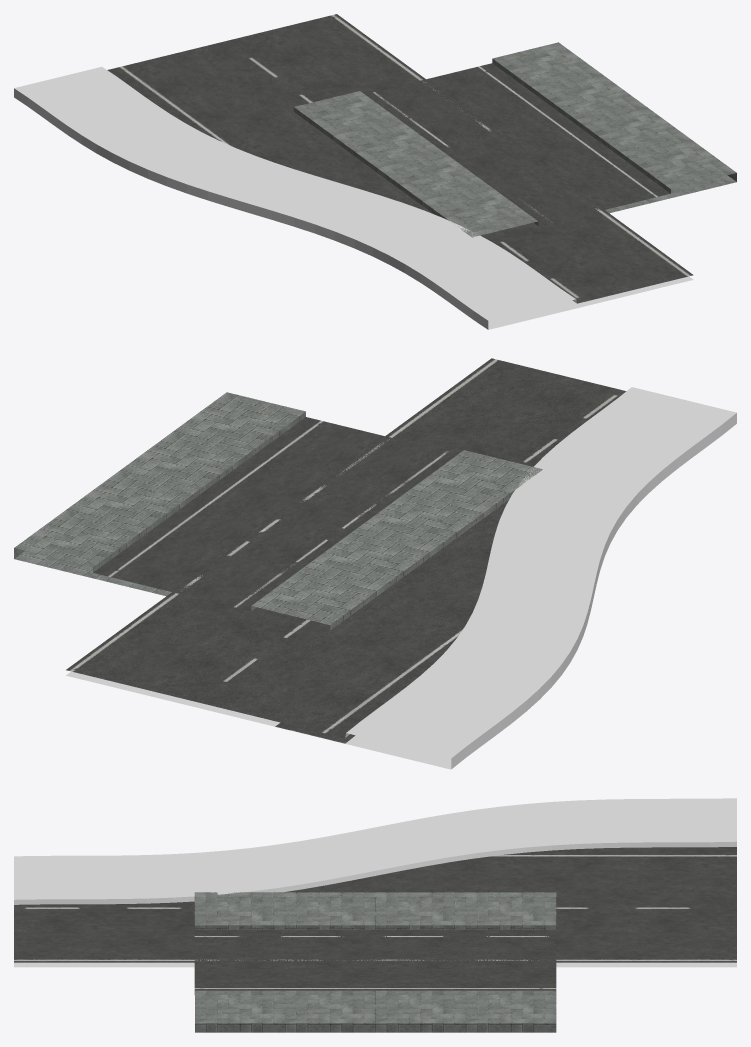
Rendered from Transition 1-2L - Scaled.fbx.
3 renders of one model, top to bottom at view 1: azimuth 30°, elevation 25°; view 2: azimuth 150°, elevation 25°; view 3: azimuth 270°, elevation 25°, orthographic. The views are drawn at different scales.
Visible parts, largest first — view 1: Plane.001, Plane; view 2: Plane.001, Plane; view 3: Plane.001, Plane.
Boxes of the visible parts, bbox=[...] form: Plane.001: bbox=[14, 14, 693, 329]; Plane: bbox=[293, 42, 736, 237]; Plane.001: bbox=[66, 358, 736, 769]; Plane: bbox=[14, 392, 542, 630]; Plane.001: bbox=[14, 798, 736, 967]; Plane: bbox=[194, 892, 556, 1032].
Bounding box in the file's own units: 2063 × 40 × 2800.
